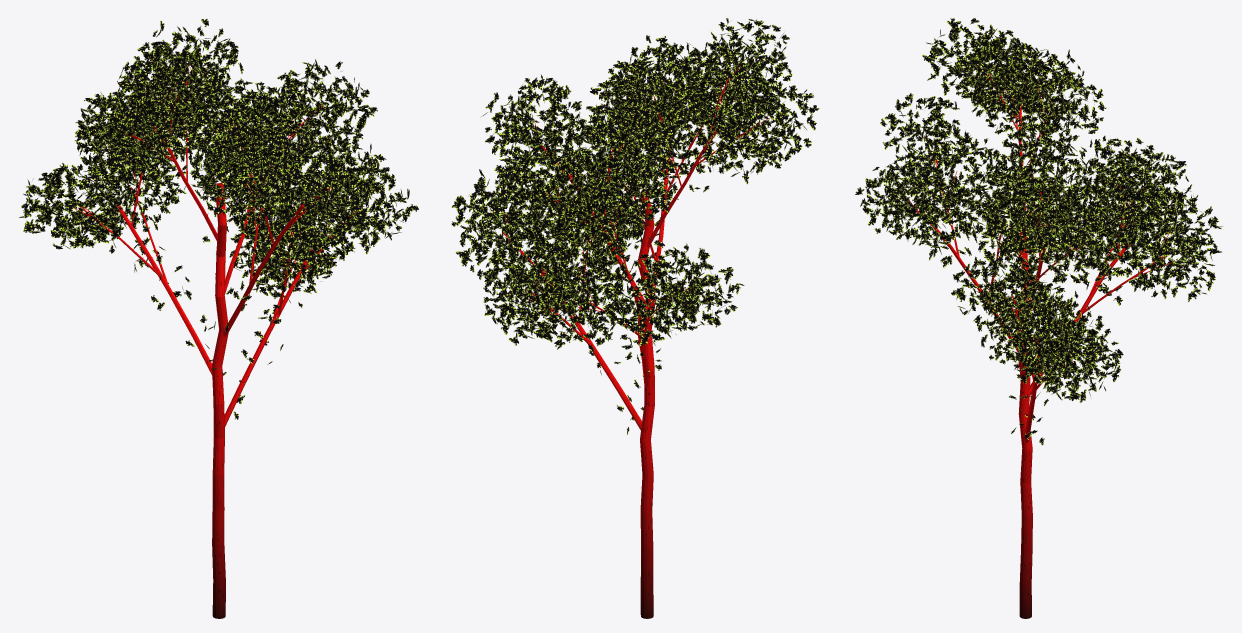
File: birch_pale_v03.glb
3 renders of one model, left to right at view 1: azimuth 30°, elevation 25°; view 2: azimuth 150°, elevation 25°; view 3: azimuth 270°, elevation 25°, orthographic. The views are drawn at different scales.
Parts seen in each view (by area): view 1: birch_pale_v03; view 2: birch_pale_v03; view 3: birch_pale_v03.
Part boxes in pixels (<box>): birch_pale_v03: <box>19,18,418,618</box>; birch_pale_v03: <box>451,18,819,618</box>; birch_pale_v03: <box>855,18,1223,618</box>.
Size of the model in its own units: 12.23 by 20.27 by 12.15.
Materials: 2 (2 with a texture image).
